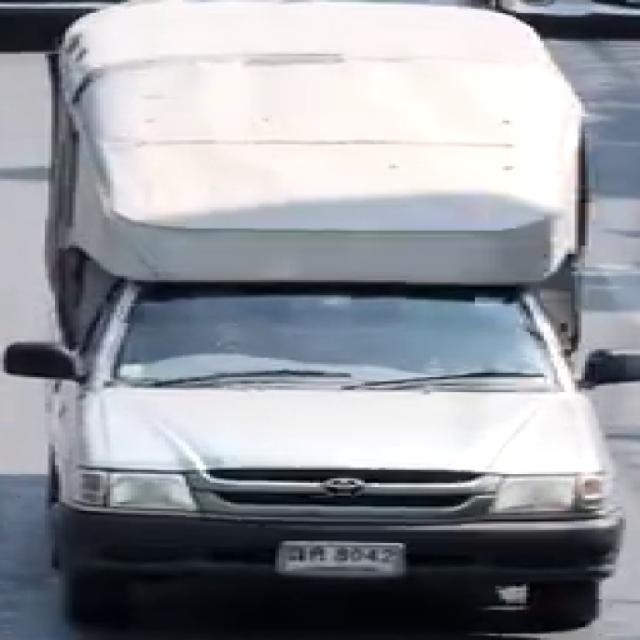plate: (277, 538, 408, 579)
